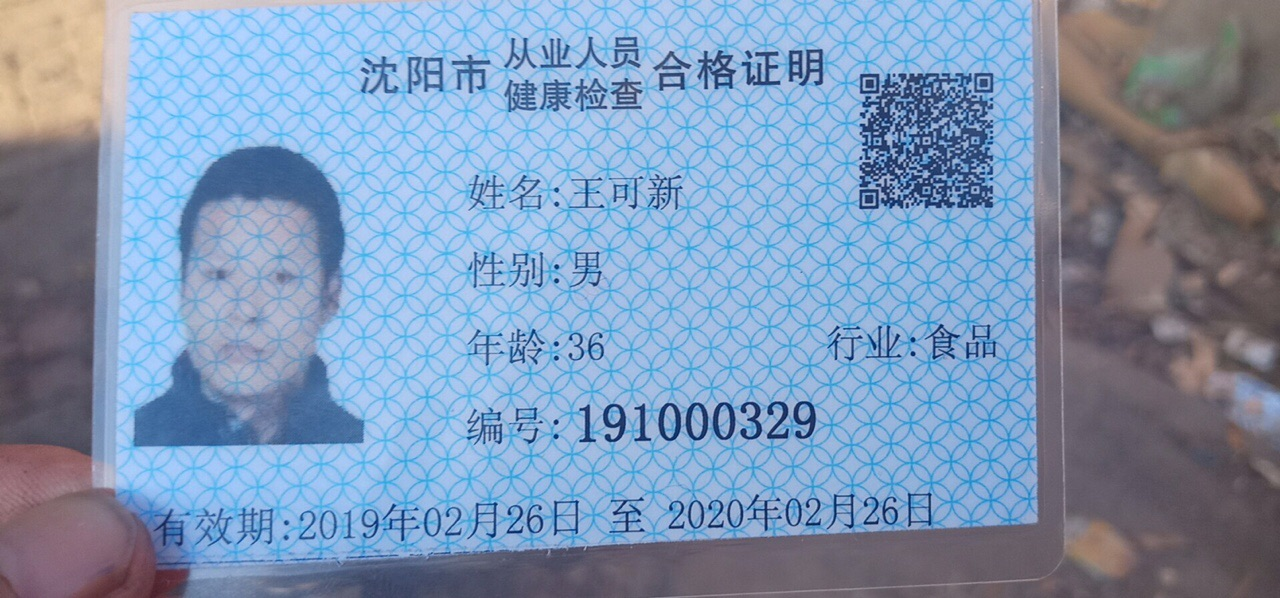qr: (853, 73, 1000, 216)
